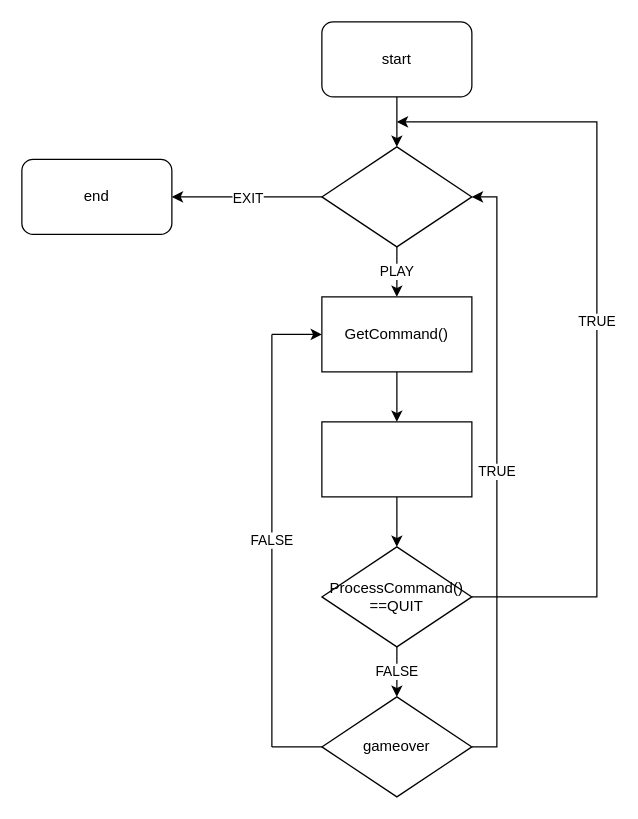
The diagram is 638 pixels wide and 819 high, and some of its shapes have lost their labels. The shapes that lost their labels are listed below. From the top down, each one's centre as x and y in pixels, then its label:
At point (396, 196): "menu()".
At point (396, 459): "ProcessCommand()".
